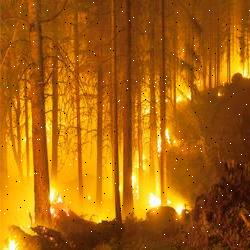fire: (0, 120, 186, 250), (139, 37, 247, 117)
